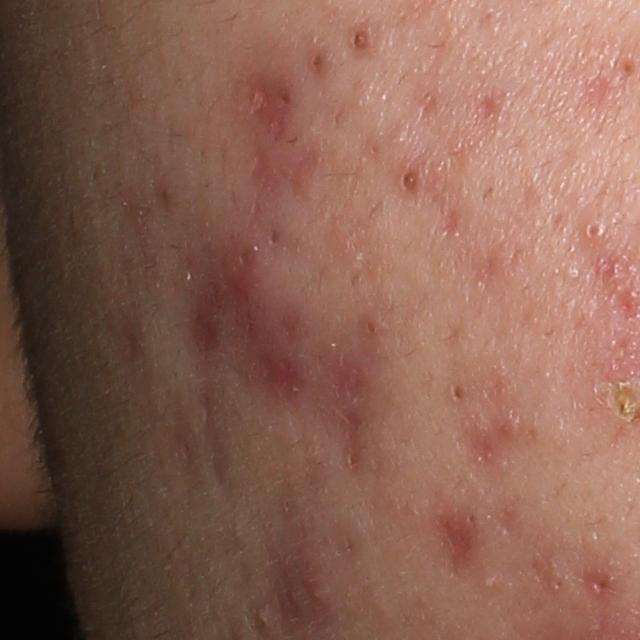atrophic_scar: (194, 381, 238, 485), (477, 86, 497, 128), (441, 206, 463, 235)
comedo: (396, 160, 426, 199), (581, 214, 612, 244), (348, 25, 374, 54), (304, 50, 327, 82), (254, 605, 271, 632), (548, 575, 566, 595), (448, 382, 465, 403)
